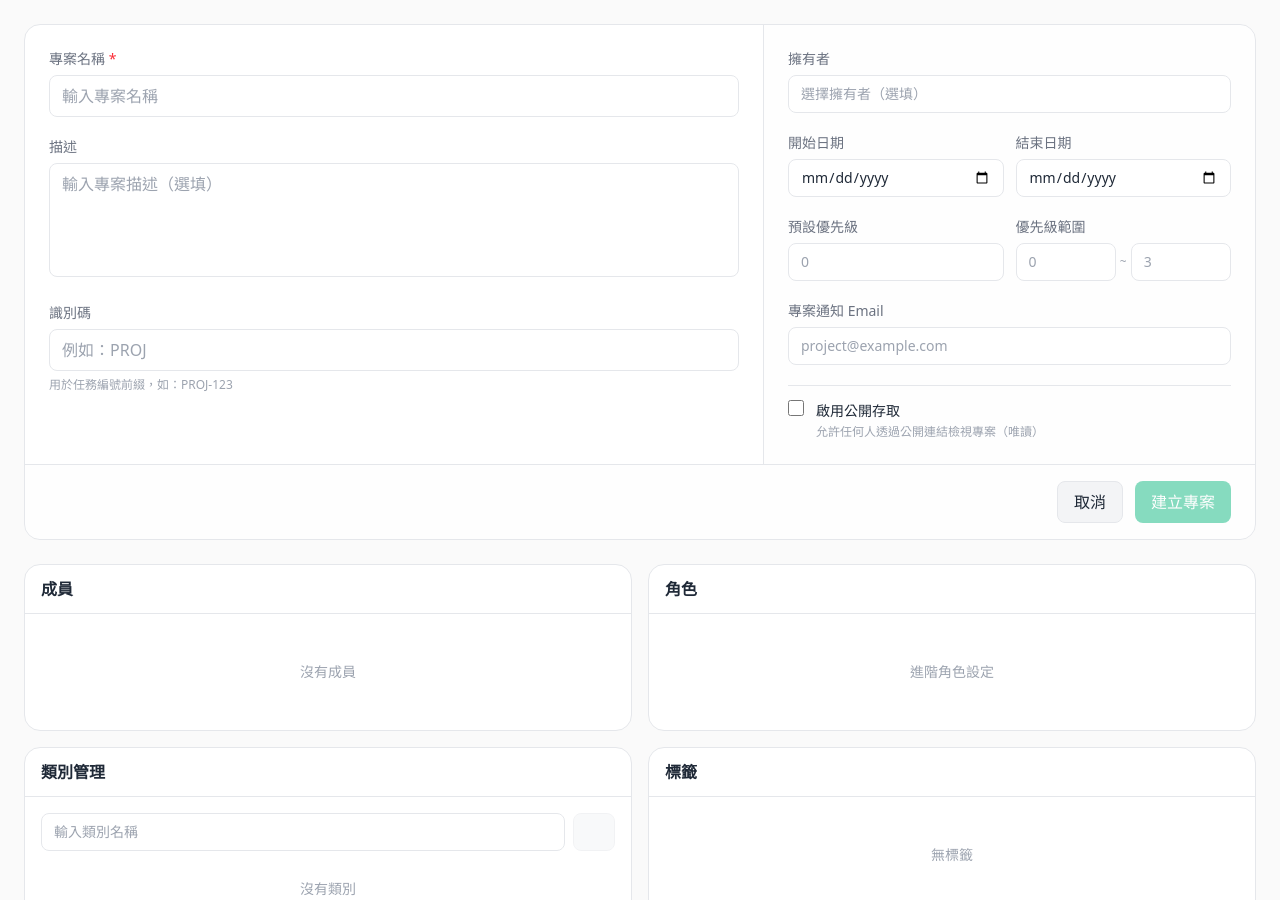
Test case: ProjectCreateView › category management › should add category to cache
The width and height of the screenshot is (1280, 900).
In the field with placeholder "輸入類別名稱": (303, 832) [41,813,565,851], type "Bug"
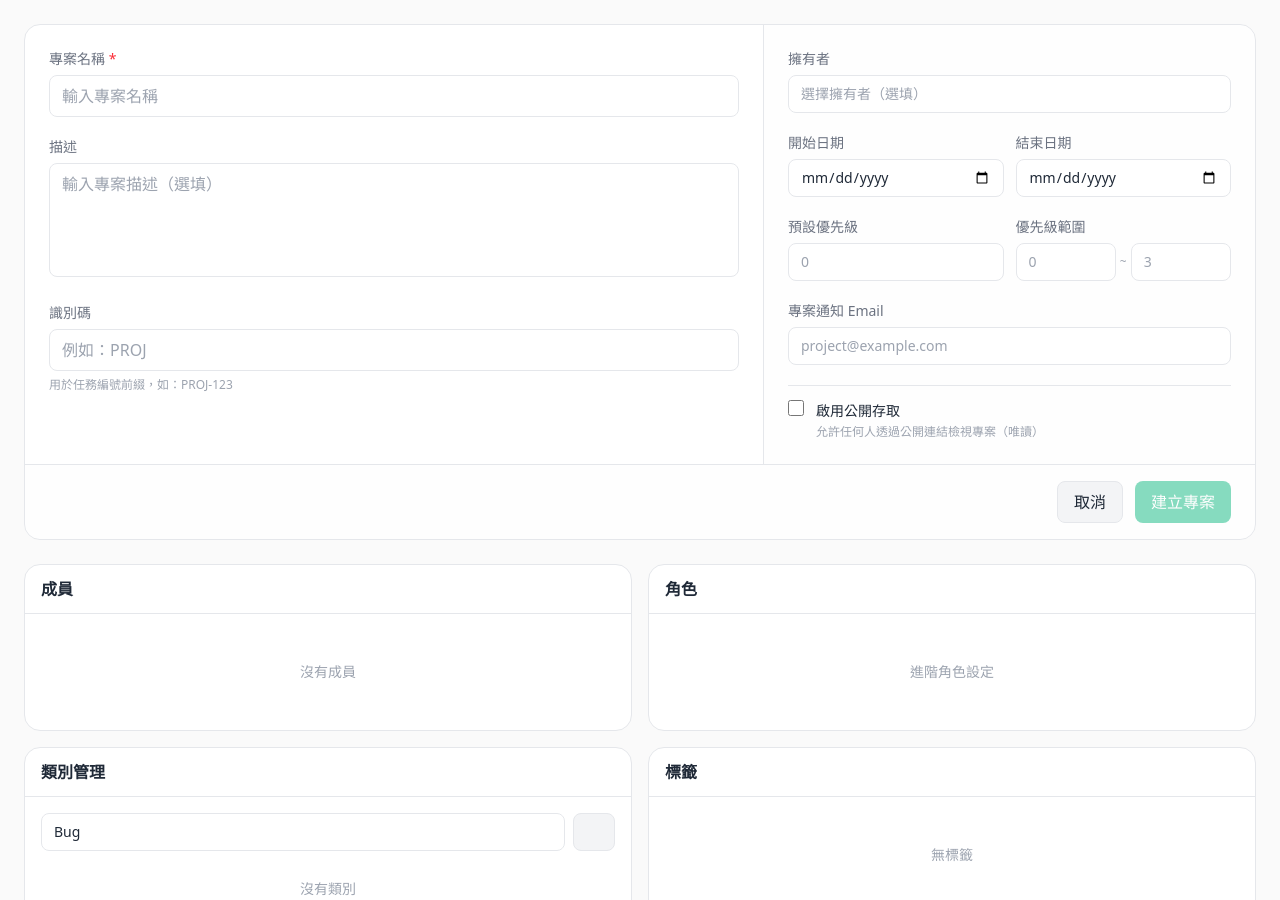
Note: Find the add button in the category section
Click the 4th button: (594, 832) [573,813,615,851]
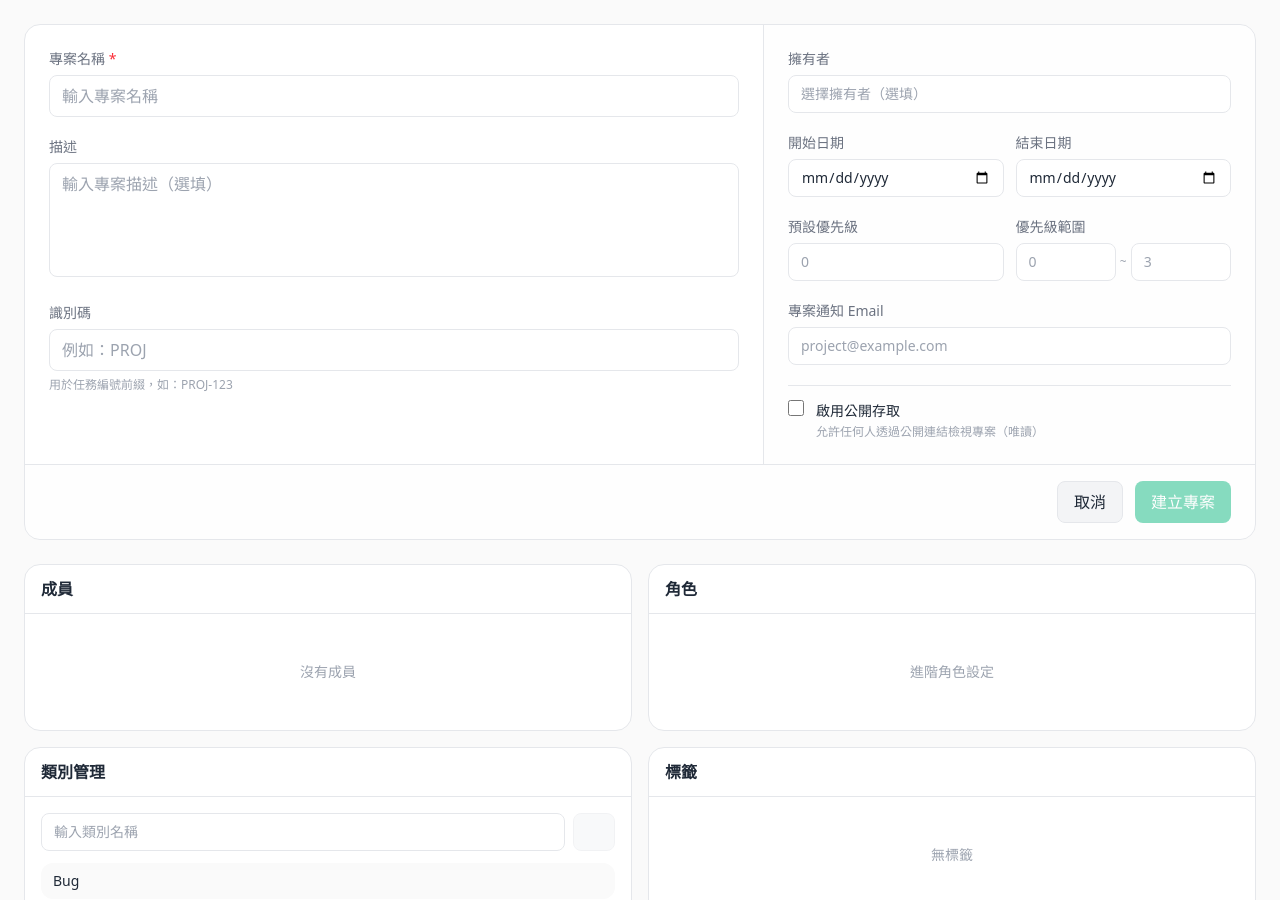
Expected: the text "Bug" is shown, [53,871,79,891]
